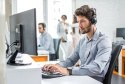male: (71, 5, 96, 37)
